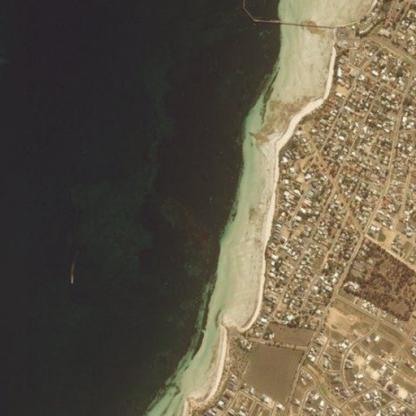ship: (60, 273, 82, 286)
